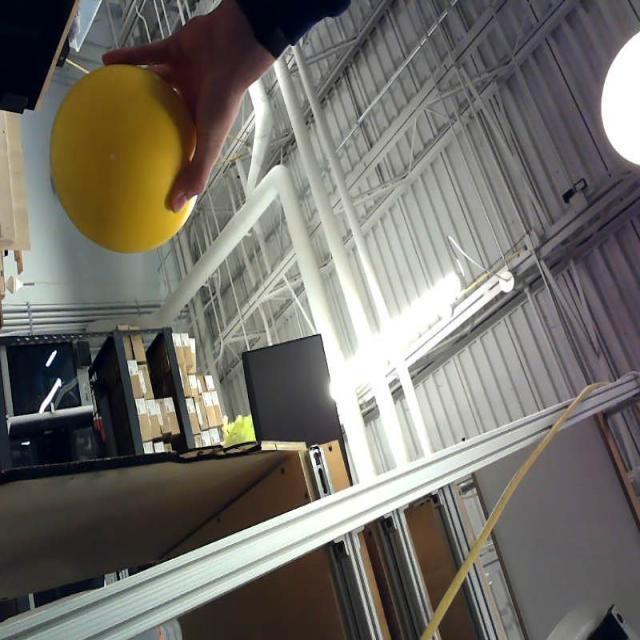Fuel: (49, 63, 200, 254)
